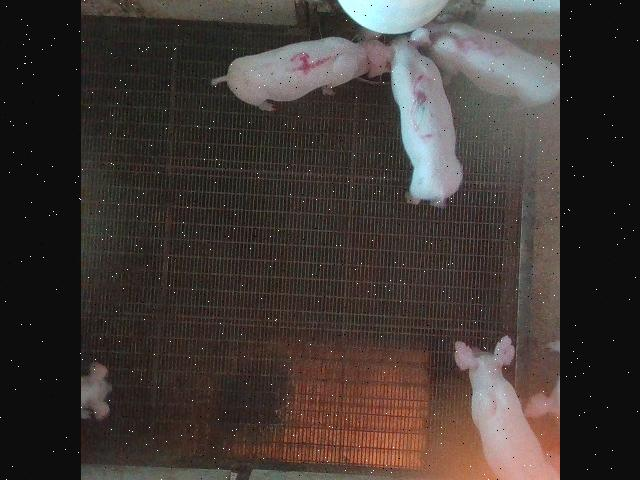pig-3: (369, 29, 461, 208)
pig-4: (211, 38, 364, 111)
pig-5: (425, 24, 559, 105)
